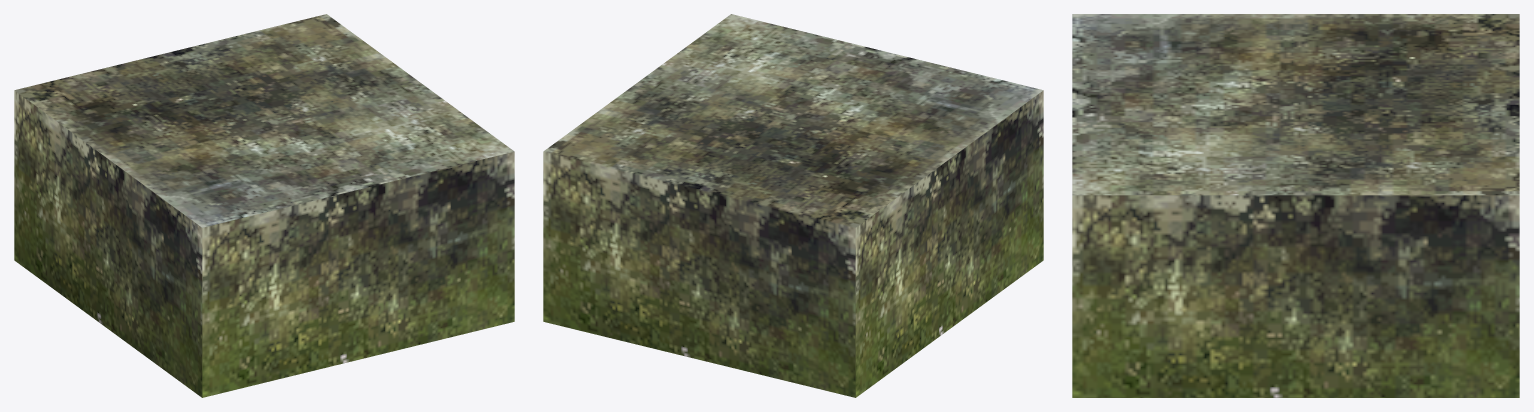
Rendered from OZ_09_mi_block01A.glb.
3 views of the same model, side by side, from view 1: azimuth 30°, elevation 25°; view 2: azimuth 150°, elevation 25°; view 3: azimuth 270°, elevation 25° (orthographic). The views are drawn at different scales.
Visible parts, largest first — view 1: OM_09_mi_block01A; view 2: OM_09_mi_block01A; view 3: OM_09_mi_block01A.
Part boxes in pixels (x1,y1,x2,y2): OM_09_mi_block01A: (14, 14, 514, 397); OM_09_mi_block01A: (543, 14, 1043, 397); OM_09_mi_block01A: (1072, 14, 1519, 397).
Bounding box in the file's own units: 2.98 × 1.55 × 3.11.
Materials: 1 (1 with a texture image).
